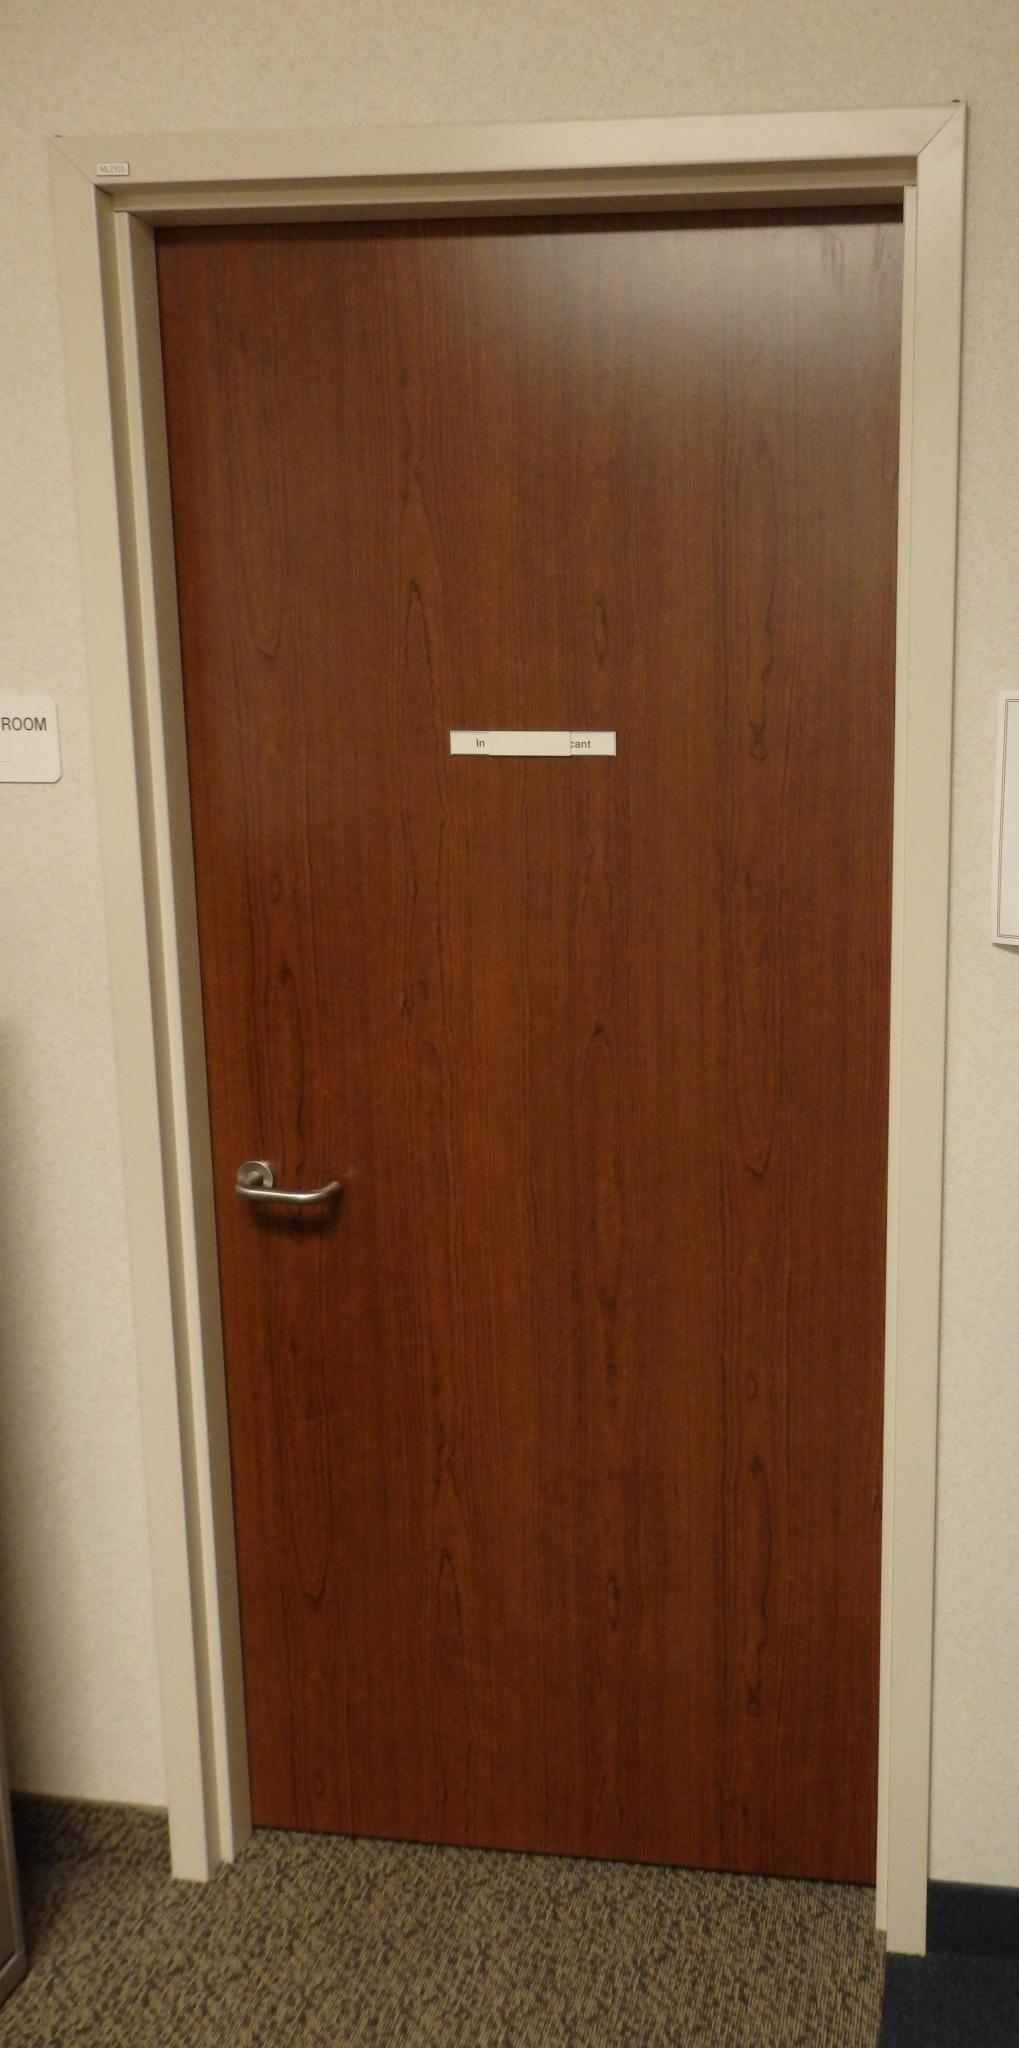door: (193, 219, 871, 1885)
handle: (236, 1121, 344, 1240)
